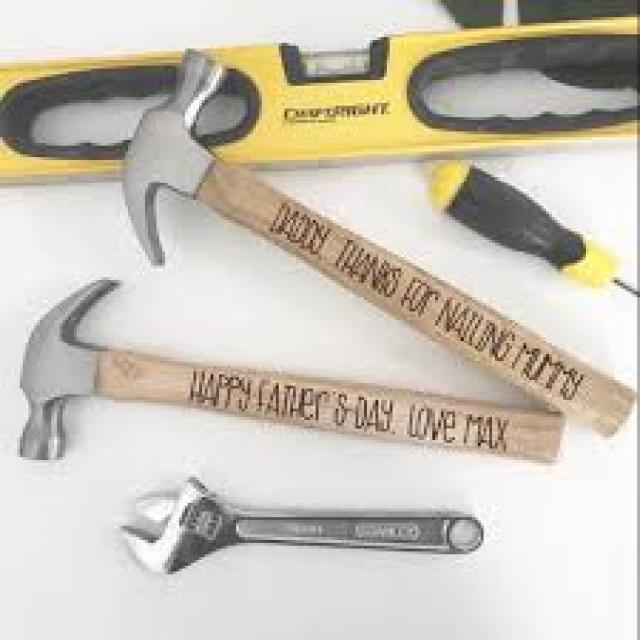hammer: (116, 34, 640, 457), (12, 268, 582, 488)
screwdriver: (415, 152, 640, 318)
